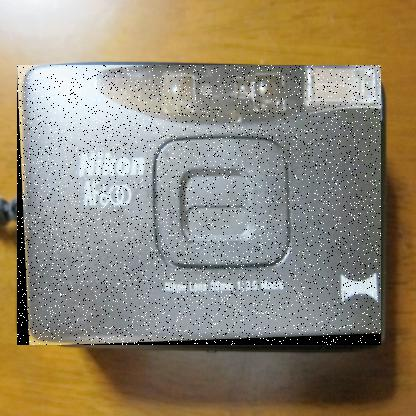Camera: (18, 66, 383, 347)
